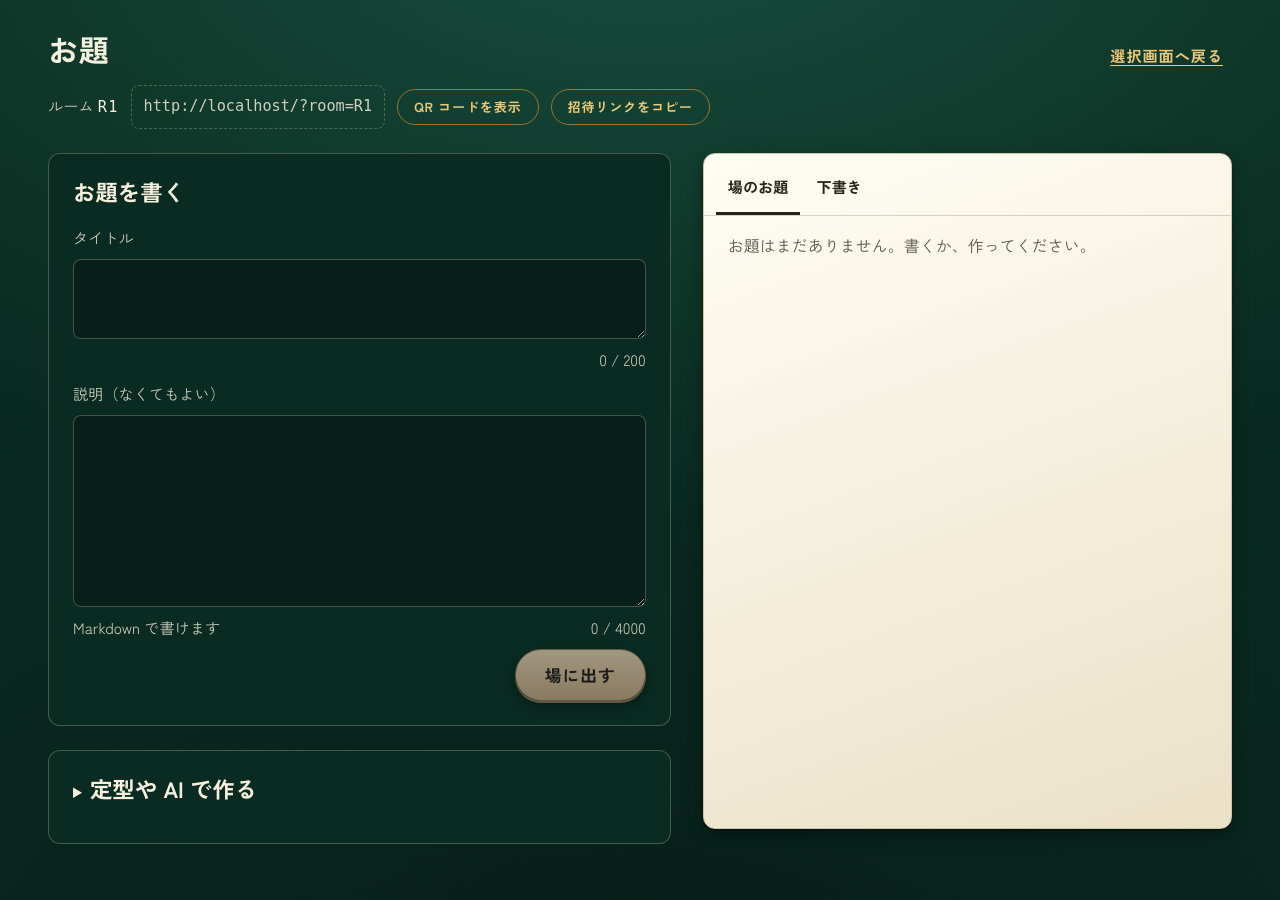
Test: 読む面のタブ › Given 下書きが空 / When 下書きのタブを選ぶ / Then 書くと見え方が出ると伝える
Click the tab "下書き": (839, 188) [804,162,874,215]
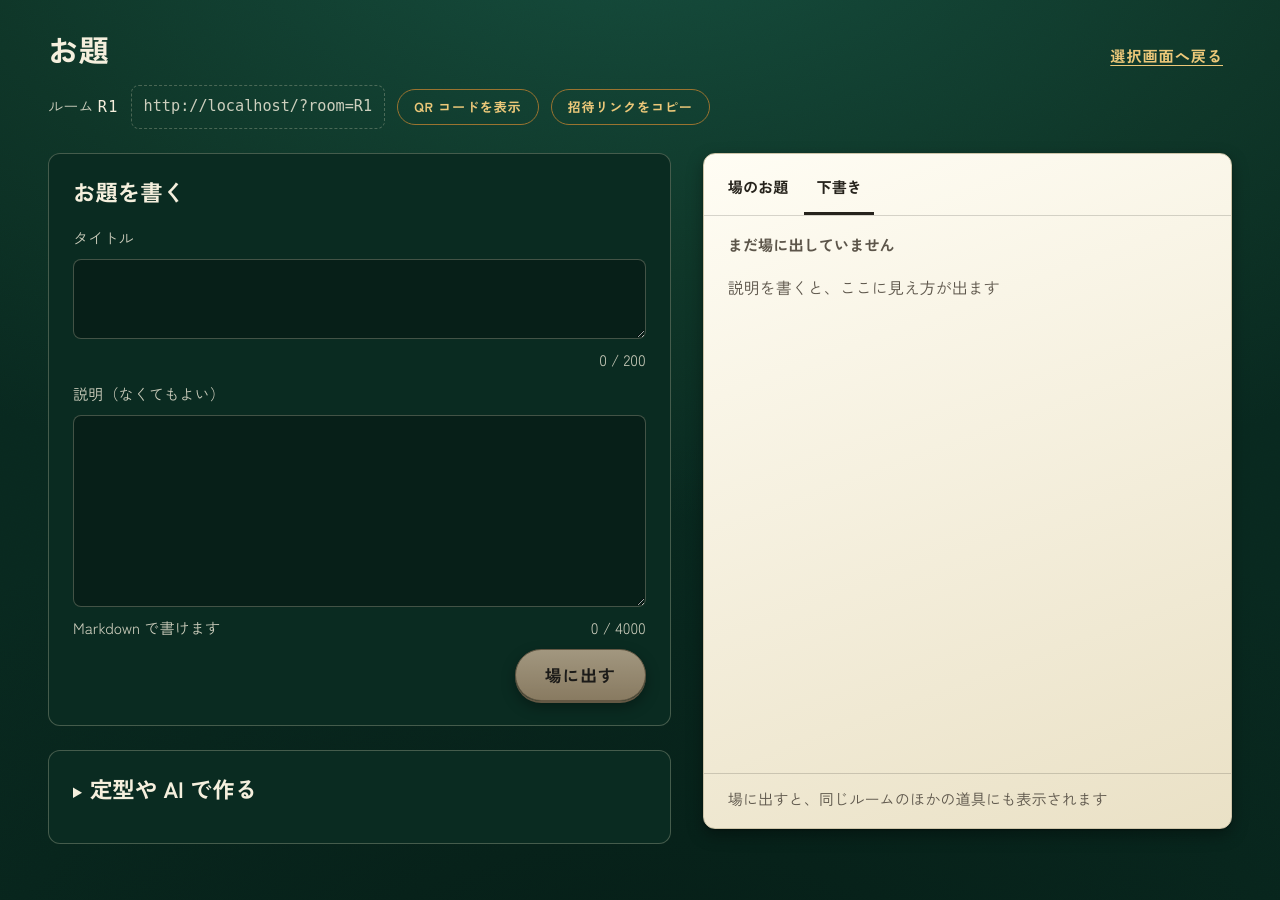
Check: the text "説明を書くと、ここに見え方が出ます" is shown, box [728,275,1000,299]
